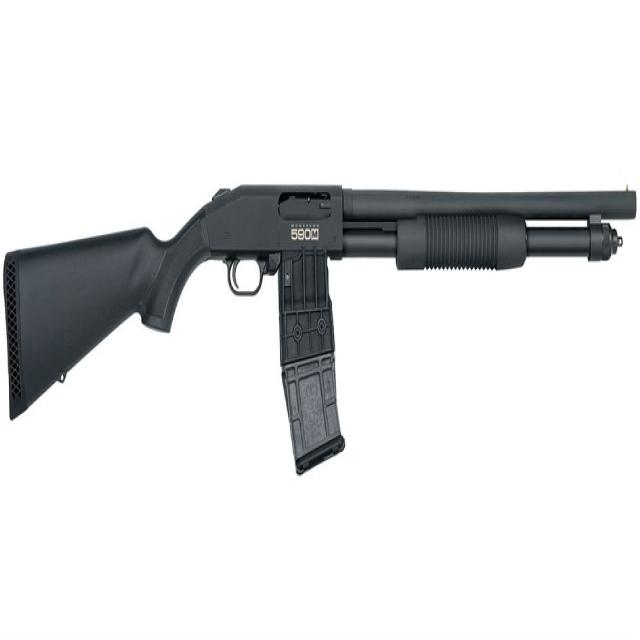ShotGun: (1, 183, 640, 421)
